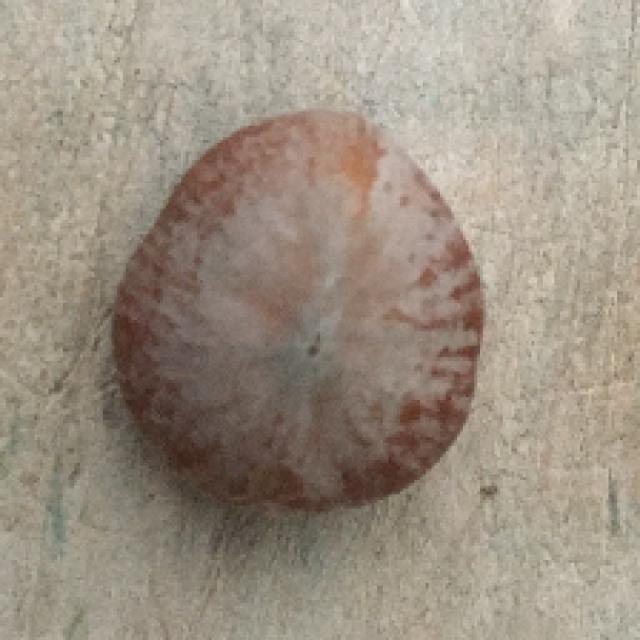qualityHazelnut: (118, 101, 482, 521)
